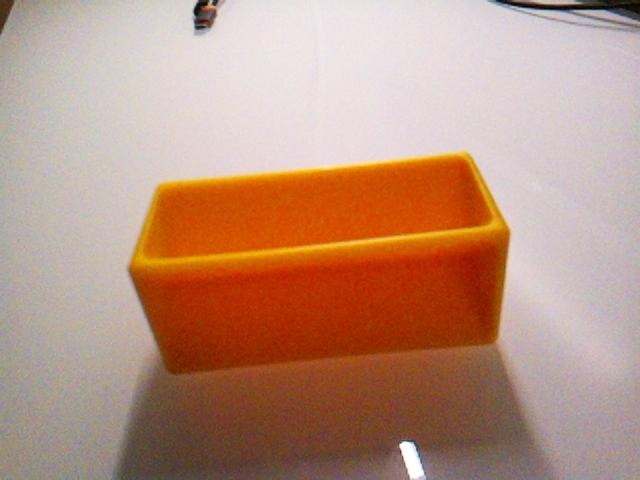yellow: (127, 150, 512, 376)
